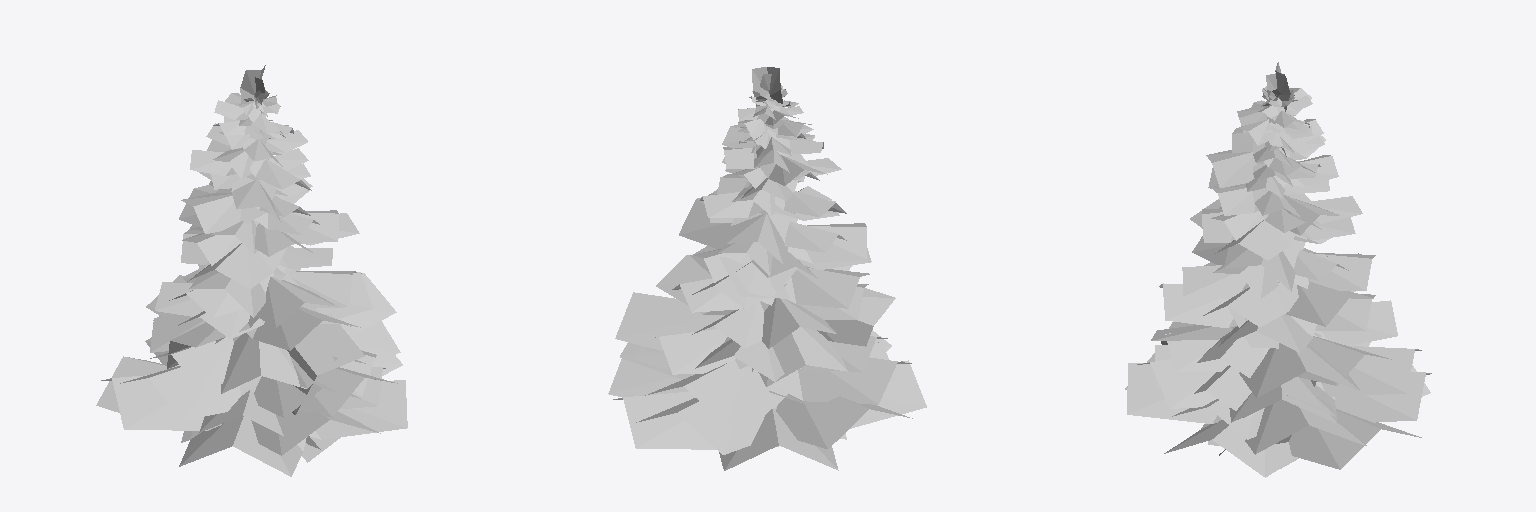
The model's file is PineLOD1.obj.
The picture shows the model from 3 angles: view 1: azimuth 30°, elevation 25°; view 2: azimuth 150°, elevation 25°; view 3: azimuth 270°, elevation 25°; orthographic projection.
Visible parts, largest first — view 1: pine4mLOD1; view 2: pine4mLOD1; view 3: pine4mLOD1.
Boxes of the visible parts, x1=… form: pine4mLOD1: x1=96, y1=65, x2=407, y2=476; pine4mLOD1: x1=608, y1=67, x2=926, y2=470; pine4mLOD1: x1=1125, y1=62, x2=1431, y2=477.
Bounding box in the file's own units: 340 × 442 × 329.